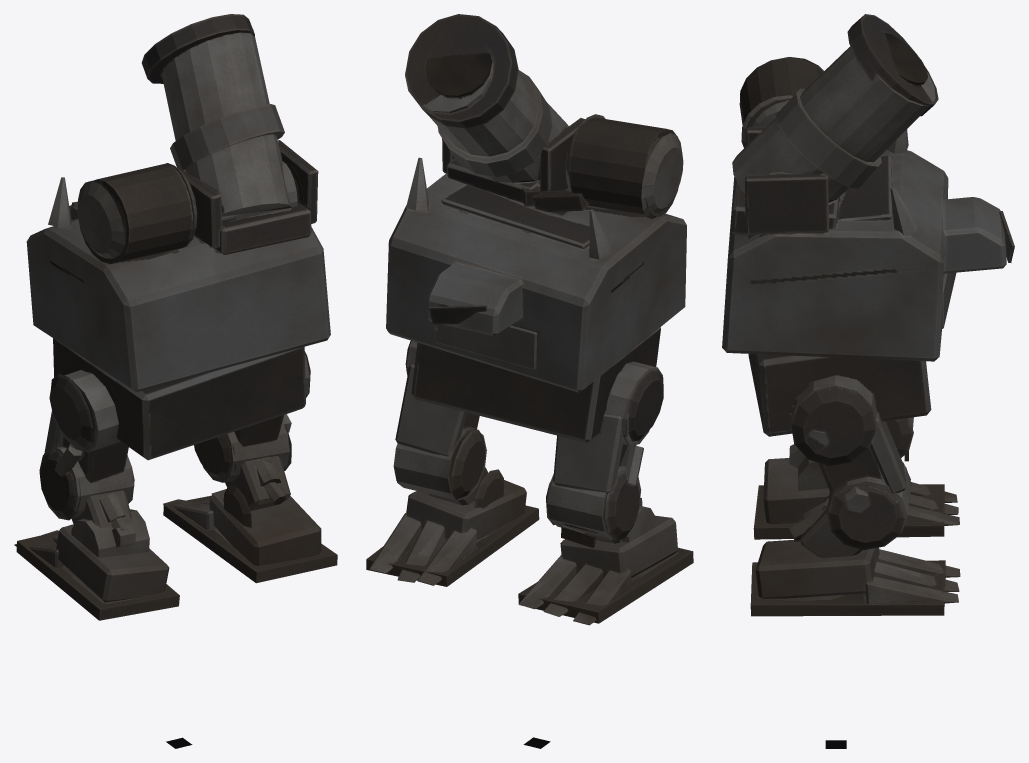
Rendered from chs_spitter_wreck.fbx.
3 renders of one model, left to right at view 1: azimuth 30°, elevation 25°; view 2: azimuth 150°, elevation 25°; view 3: azimuth 270°, elevation 25°, orthographic. The views are drawn at different scales.
Visible parts, largest first — view 1: torso_bar, barrel_bar, base_bar, thighL_bar, footR_bar, footL_bar, thighR_bar, shinL_bar, shinR_bar; view 2: torso_bar, barrel_bar, thighL_bar, base_bar, footR_bar, footL_bar, thighR_bar, shinL_bar, shinR_bar; view 3: torso_bar, barrel_bar, thighR_bar, footR_bar, base_bar, footL_bar, shinR_bar, shinL_bar, thighL_bar.
Part boxes in pixels (x1,y1,x2,y2): torso_bar: (26, 140, 330, 392); barrel_bar: (141, 14, 299, 225); base_bar: (53, 338, 305, 460); thighL_bar: (39, 370, 134, 520); footR_bar: (163, 489, 337, 583); footL_bar: (14, 524, 179, 620); thighR_bar: (194, 351, 310, 482); shinL_bar: (71, 490, 149, 557); shinR_bar: (223, 456, 290, 527); torso_bar: (386, 114, 686, 392); barrel_bar: (405, 14, 568, 182); thighL_bar: (546, 361, 663, 540); base_bar: (411, 327, 660, 442); footR_bar: (366, 480, 539, 586); footL_bar: (518, 515, 693, 625); thighR_bar: (393, 340, 486, 500); shinL_bar: (561, 497, 656, 547); shinR_bar: (428, 467, 503, 508); torso_bar: (722, 57, 1014, 361); barrel_bar: (732, 14, 938, 202); thighR_bar: (790, 375, 911, 549); footR_bar: (750, 540, 960, 616); base_bar: (748, 354, 931, 436); footL_bar: (753, 458, 959, 539); shinR_bar: (789, 495, 862, 557); shinL_bar: (789, 444, 908, 490); thighL_bar: (885, 417, 913, 457).
Size of the model in its own units: 276 by 794 by 282.
Materials: 2 (2 with a texture image).
